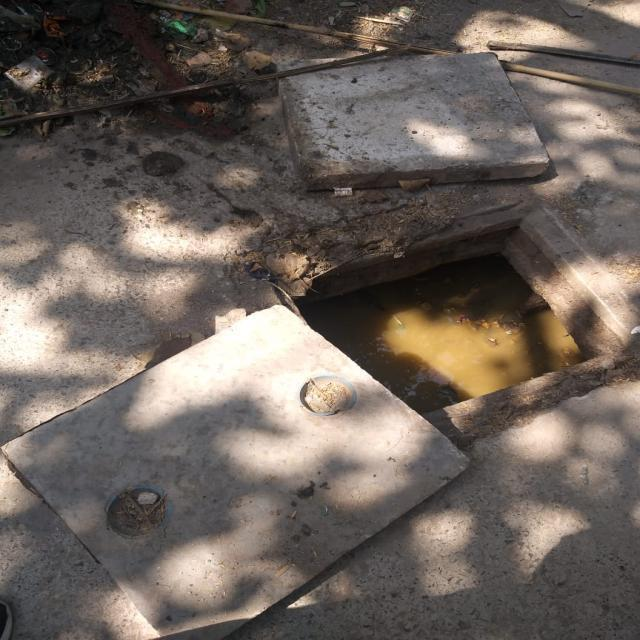dirty_floor: (0, 0, 639, 639), (298, 244, 589, 417)
